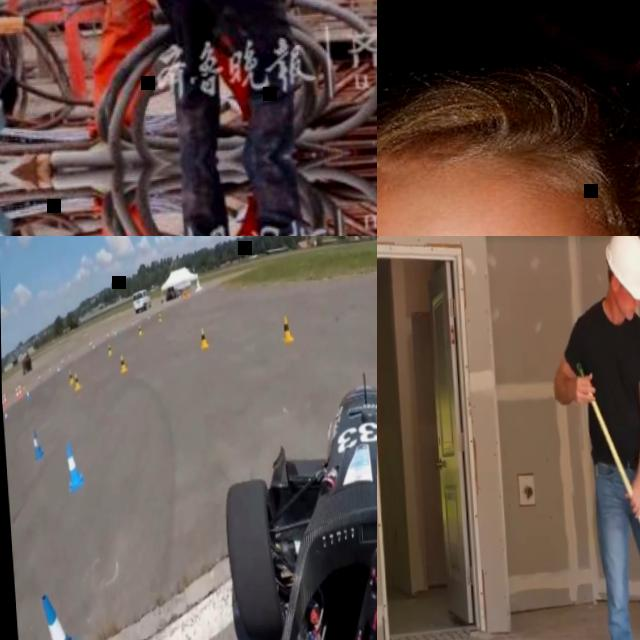Hardhat: (604, 236, 640, 303)
NO-Hardhat: (377, 64, 640, 236)
NO-Mask: (611, 275, 636, 324)
NO-Safety Vest: (577, 299, 640, 473)
Person: (126, 0, 353, 236), (377, 55, 640, 236), (543, 236, 640, 640), (75, 0, 253, 142)
Safety Cone: (38, 592, 83, 640), (61, 443, 85, 495), (30, 430, 44, 461), (280, 315, 294, 346), (198, 326, 209, 351), (117, 354, 128, 374), (72, 373, 80, 393), (67, 369, 74, 385), (106, 343, 112, 357), (137, 325, 143, 337), (2, 392, 6, 407), (14, 385, 18, 399), (17, 383, 21, 397), (156, 311, 161, 322), (1, 393, 3, 407)
vehicle: (184, 363, 377, 640), (133, 289, 151, 314)
